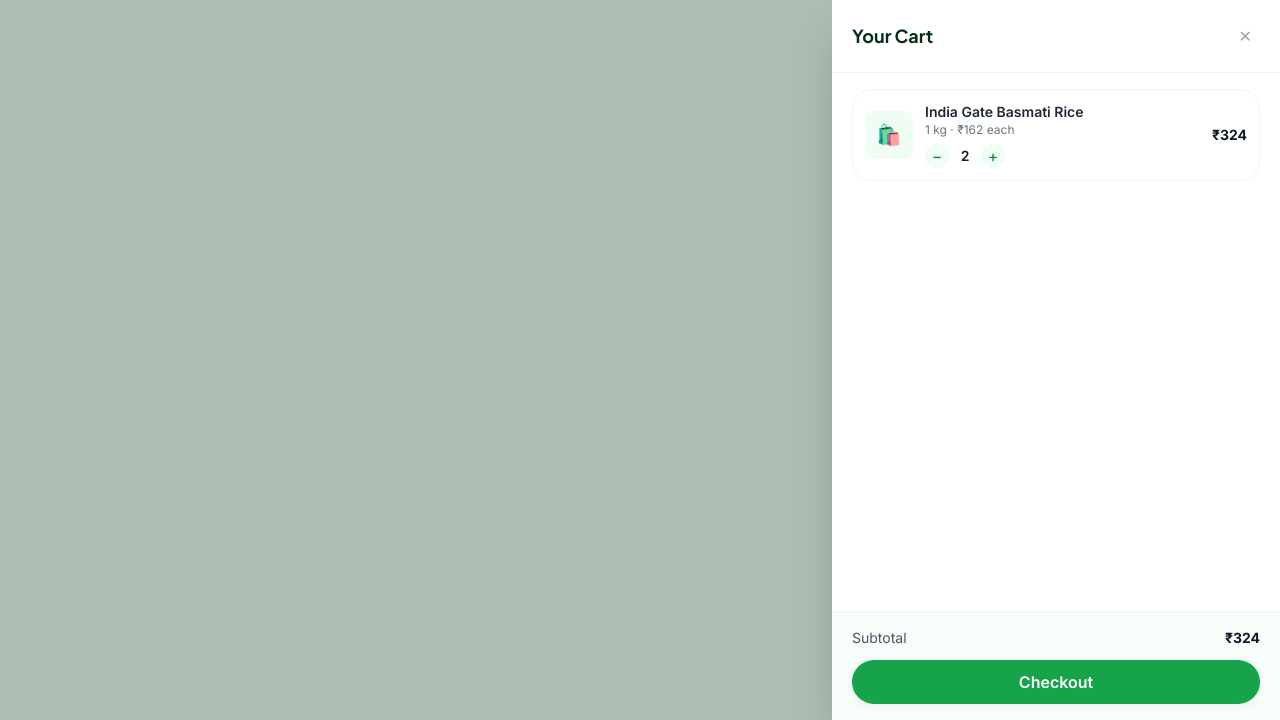
Test: CartDrawer quantity buttons › shows a friendly error instead of an unhandled rejection when increasing quantity fails
Expected: the text "India Gate Basmati Rice" is shown, [925, 103, 1084, 120]
Step 1. Click the button named "Increase quantity of Basmati Rice" → (993, 156), box [981, 144, 1005, 168]
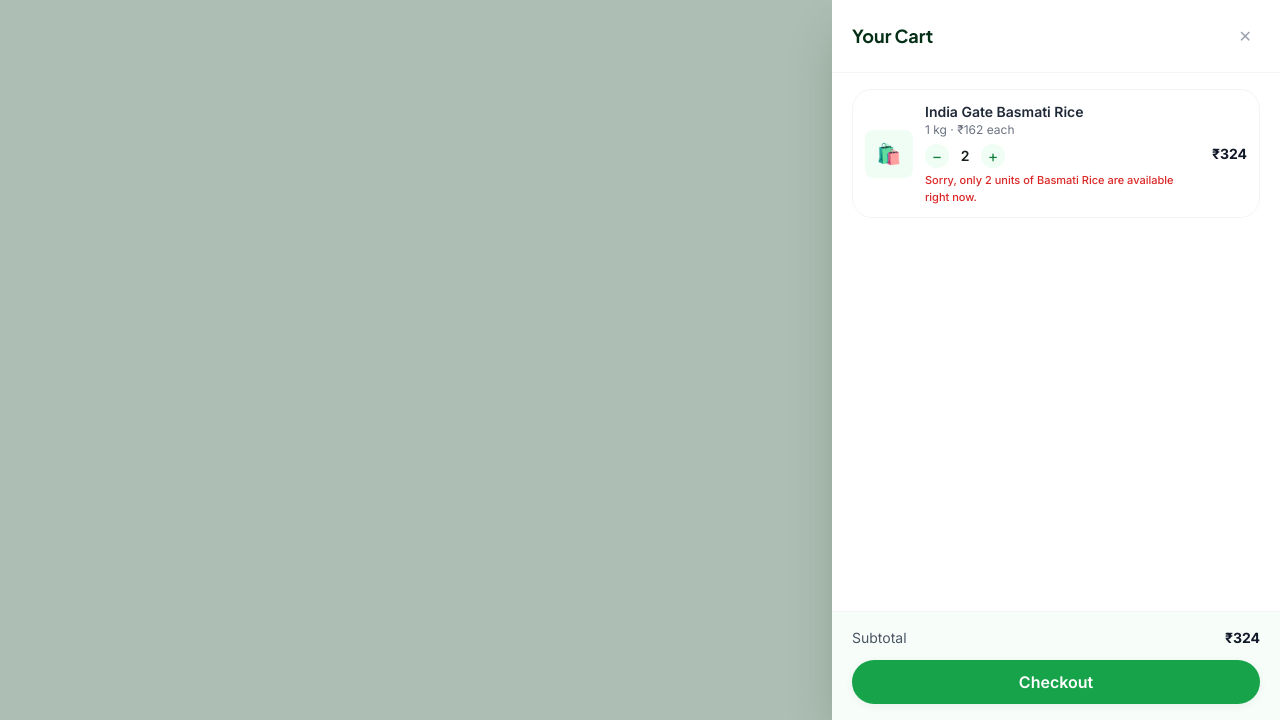
Expected: the message shows "only 2 units", [925, 173, 1174, 204]
